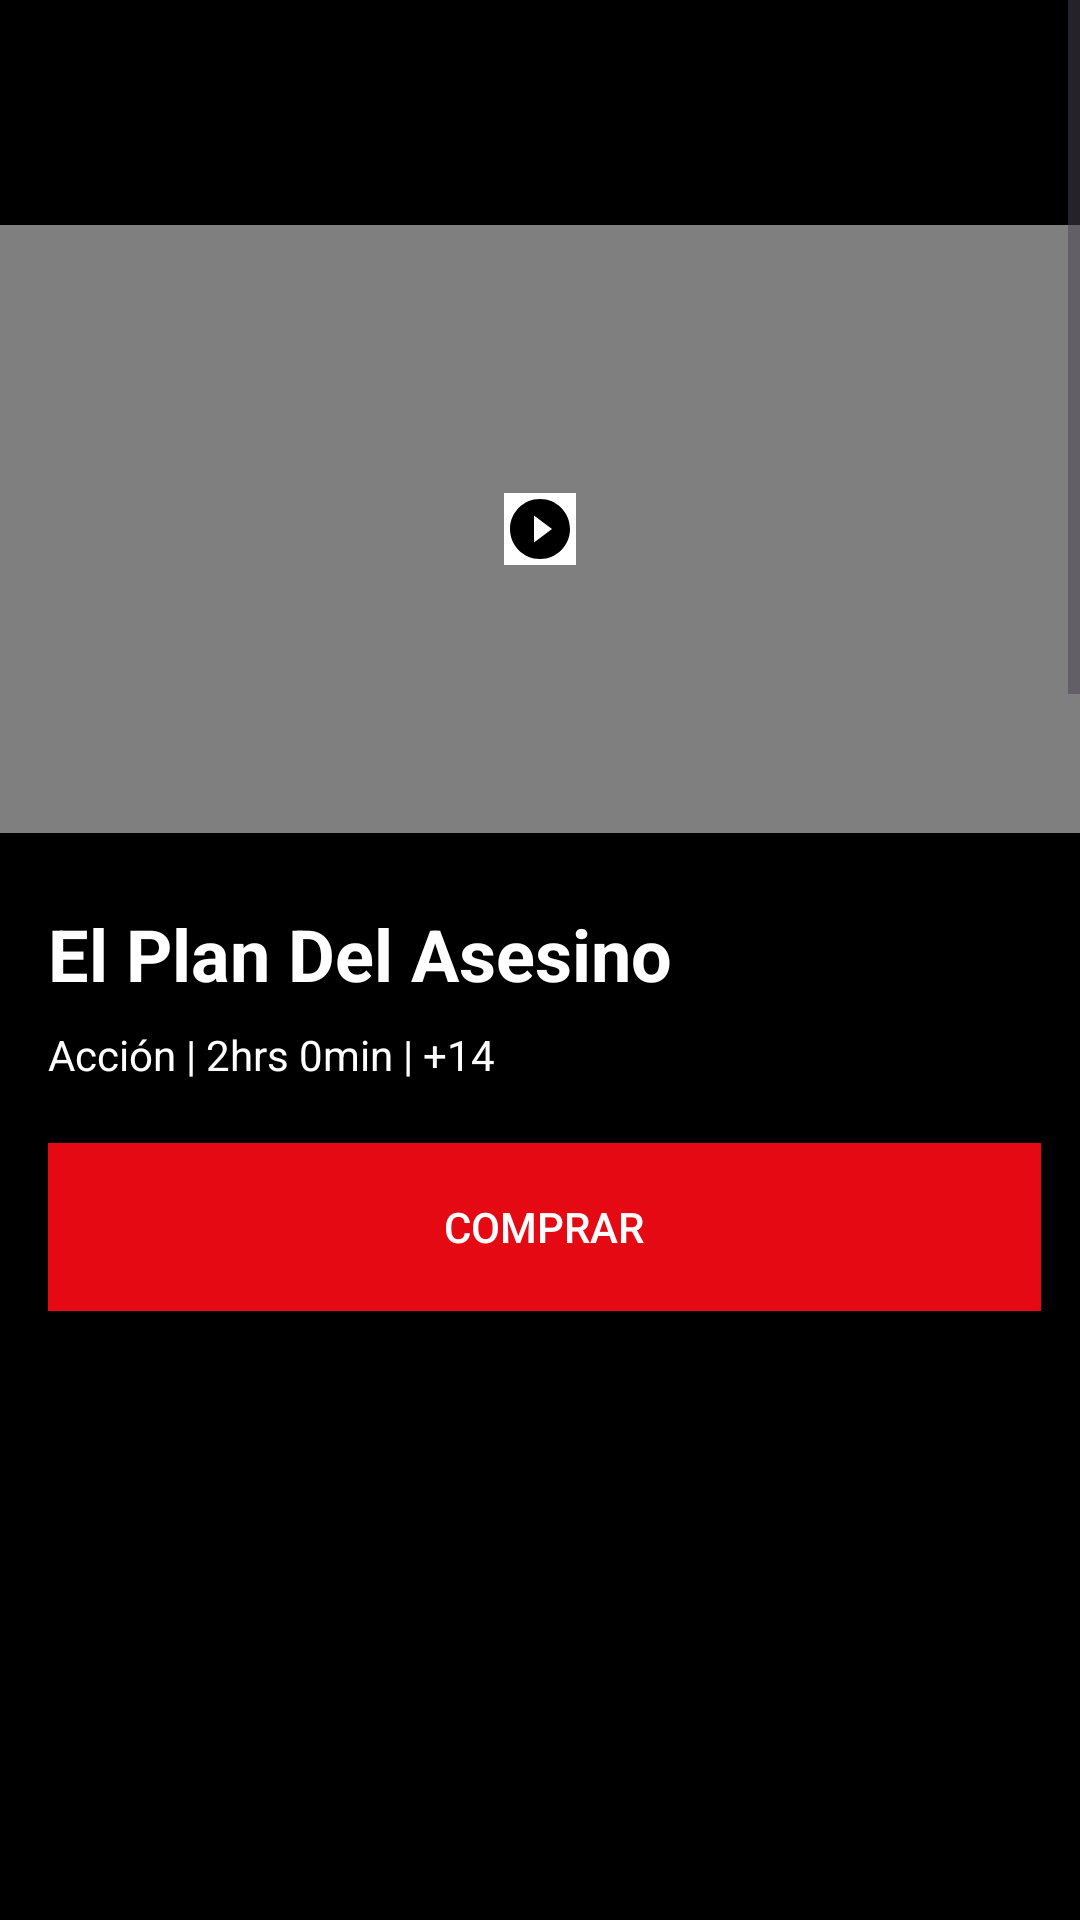

Screen size 1080x1920. Icon name, then its center in pixels as point (x, y):
play video: point (540, 529)
